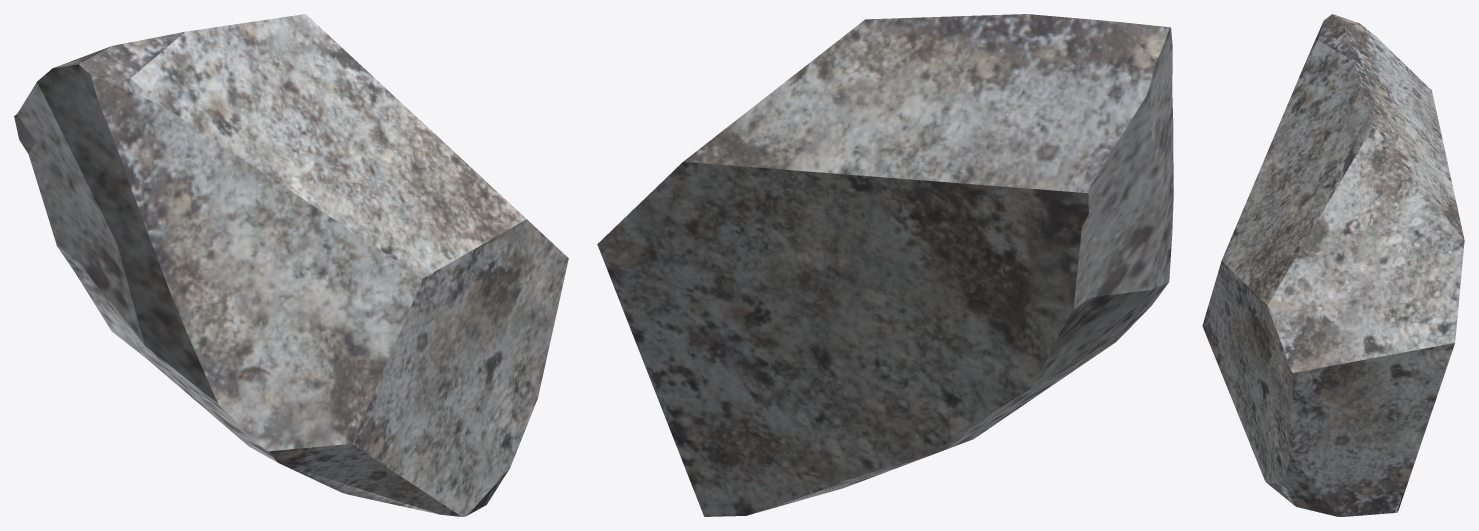
File: Asteroid_Large_001_02_002_03_017.fbx
3 renders of one model, left to right at view 1: azimuth 30°, elevation 25°; view 2: azimuth 150°, elevation 25°; view 3: azimuth 270°, elevation 25°, orthographic. The views are drawn at different scales.
Visible parts, largest first — view 1: Asteroid_Large_001_02_002_03_017; view 2: Asteroid_Large_001_02_002_03_017; view 3: Asteroid_Large_001_02_002_03_017.
Part boxes in pixels (x1,y1,x2,y2): Asteroid_Large_001_02_002_03_017: (14, 14, 568, 516); Asteroid_Large_001_02_002_03_017: (597, 14, 1173, 516); Asteroid_Large_001_02_002_03_017: (1202, 14, 1464, 516).
Size of the model in its own units: 11.98 by 12.72 by 8.21.
